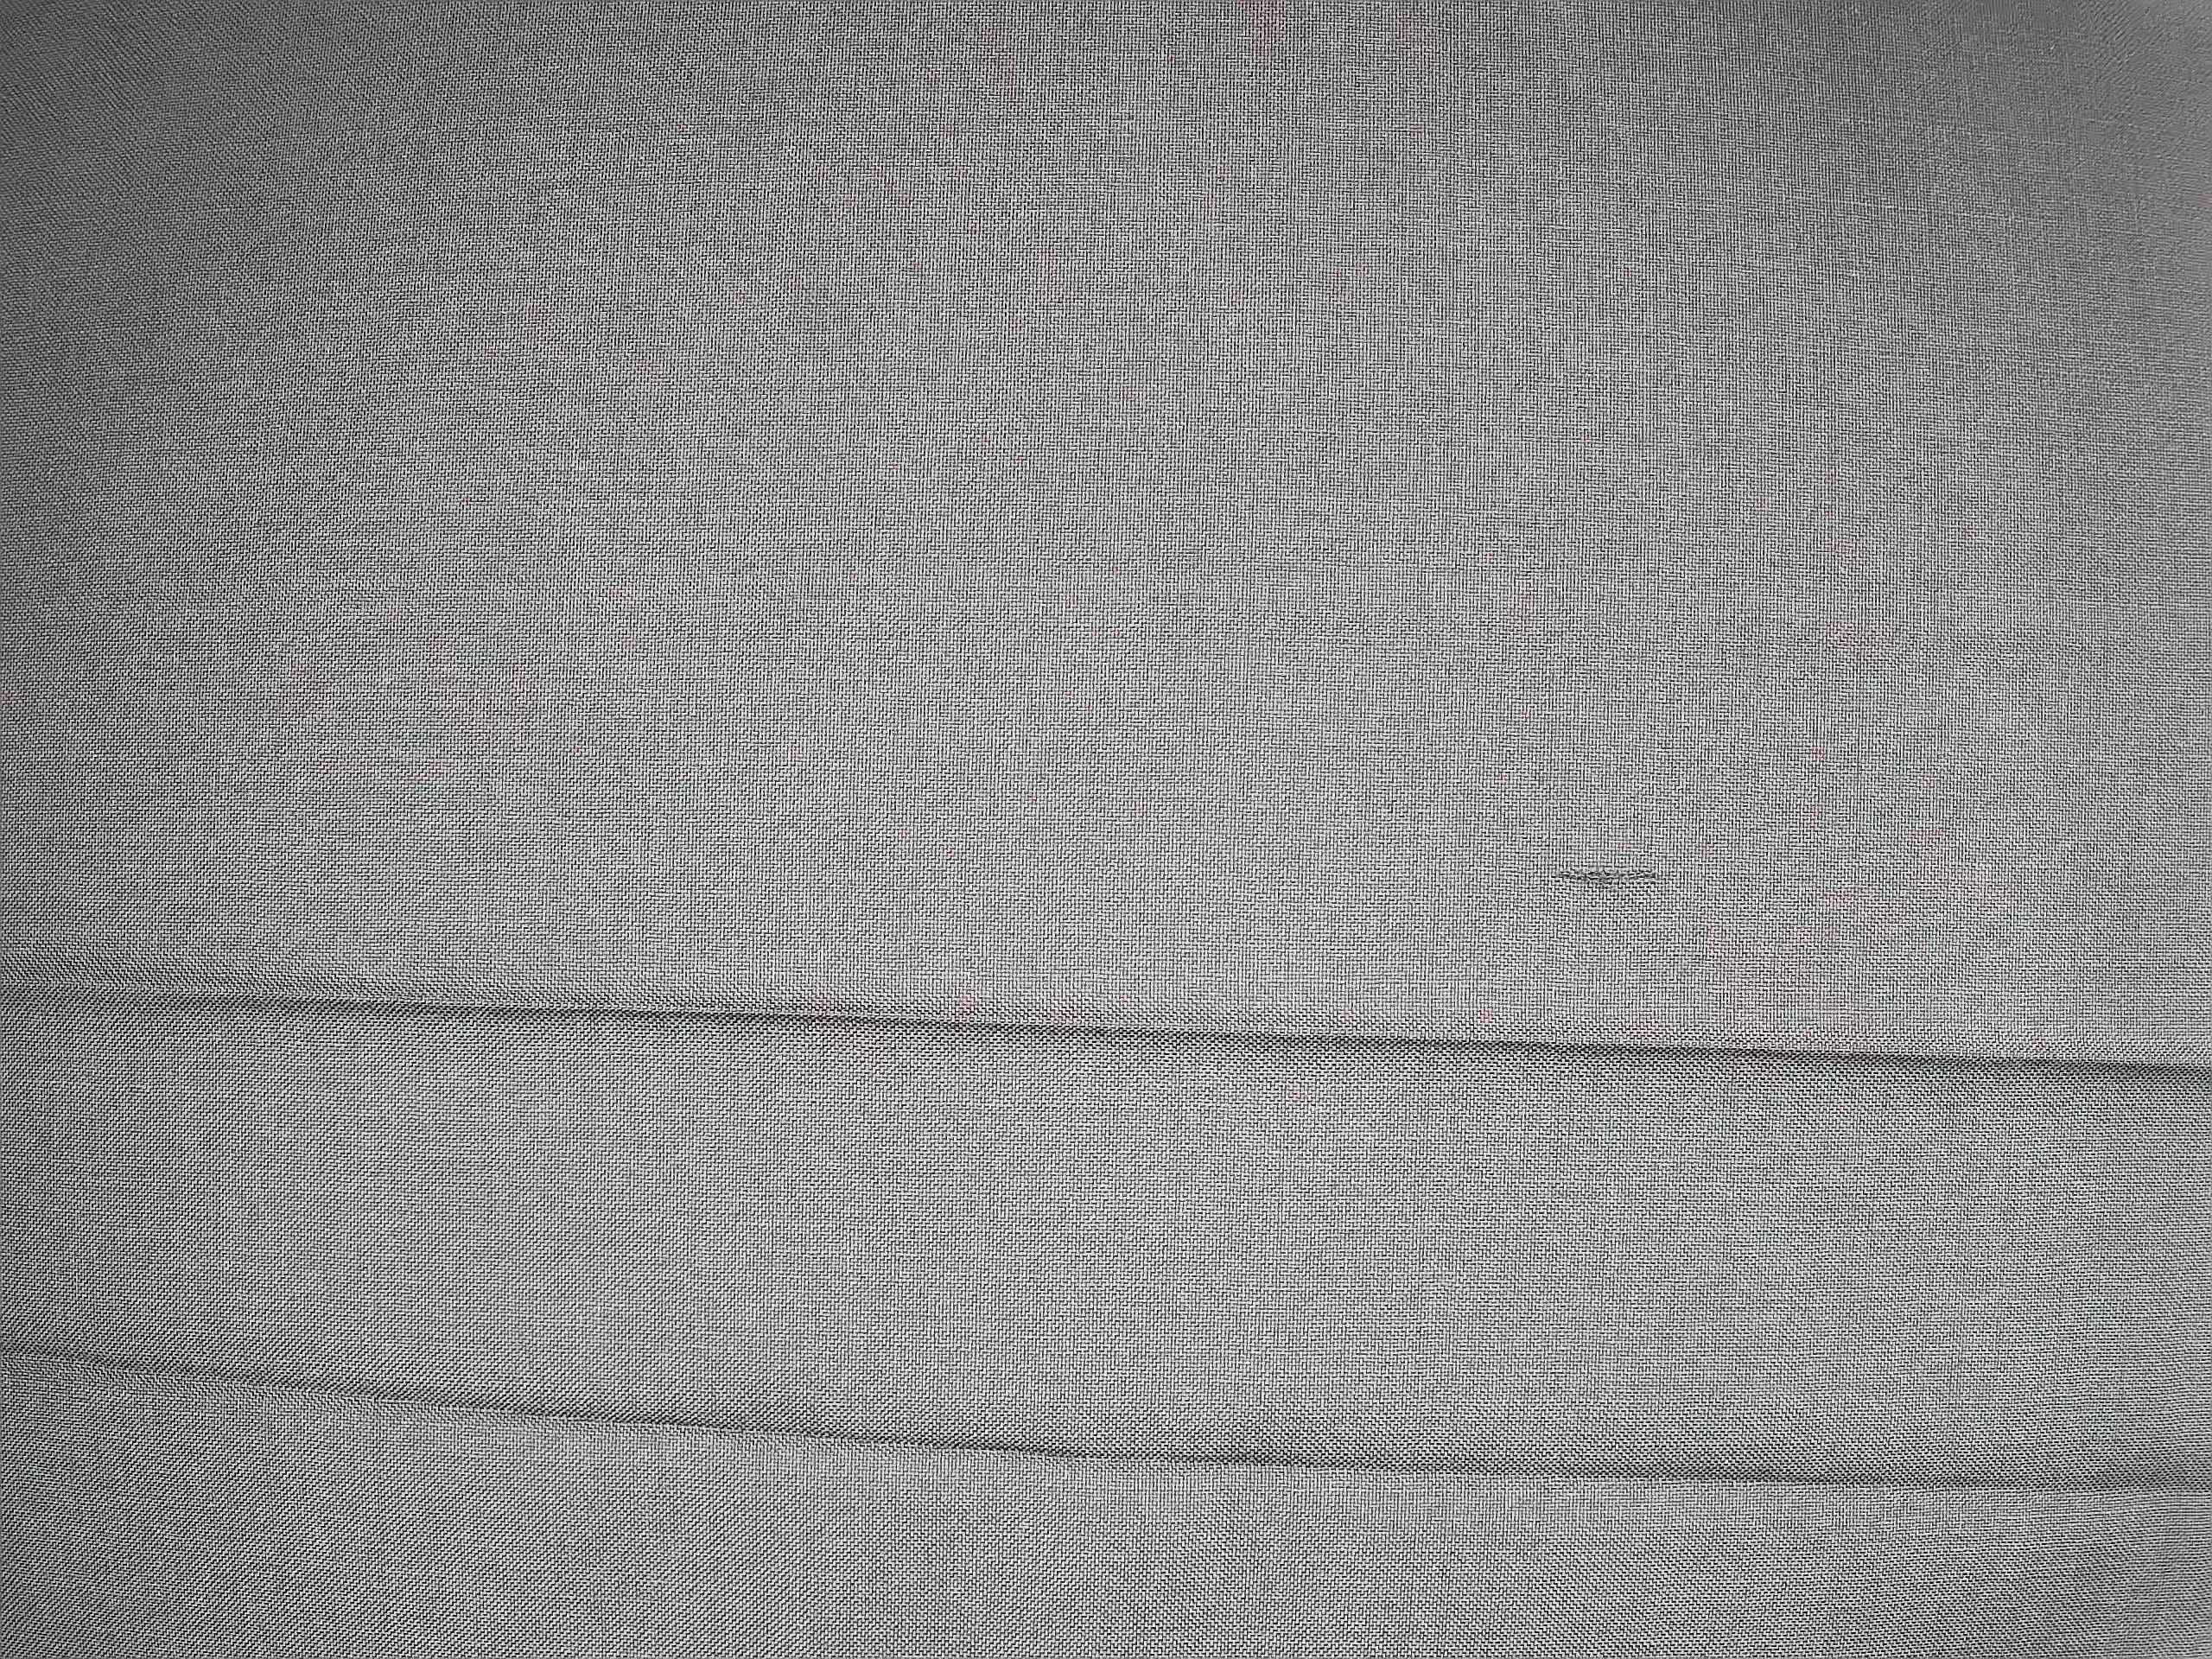rubbing-hole: (1538, 847, 1695, 924)
